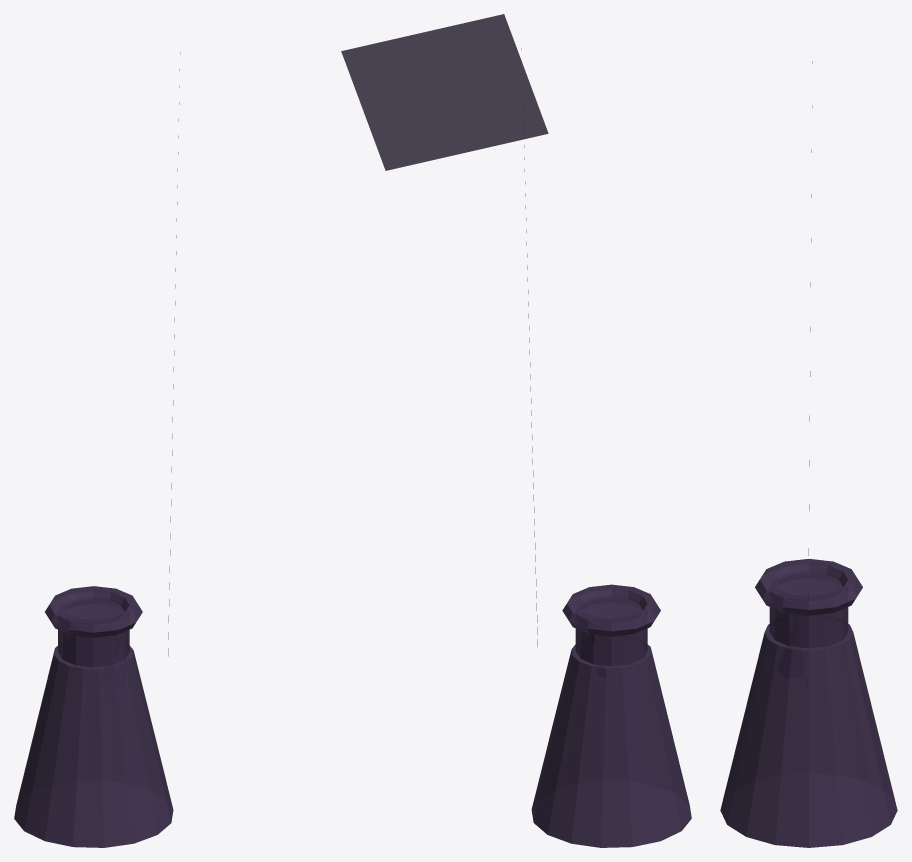
The model's file is quill_ink.glb.
The picture shows the model from 3 angles, left to right: view 1: azimuth 30°, elevation 25°; view 2: azimuth 150°, elevation 25°; view 3: azimuth 270°, elevation 25°; orthographic projection. The views are drawn at different scales.
Visible parts, largest first — view 1: quill_ink; view 2: quill_ink; view 3: quill_ink.
Boxes of the visible parts, x1,y1,x2,y2 form: quill_ink: [14, 52, 180, 847]; quill_ink: [341, 14, 691, 847]; quill_ink: [720, 61, 897, 847].
Bounding box in the file's own units: 0.0811 × 0.1909 × 0.036.
